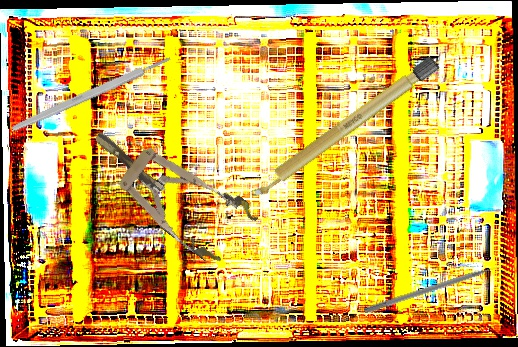Pusher: (363, 260, 510, 316)
Scalpel Handle: (245, 54, 442, 203), (10, 54, 173, 134)
Speculum: (75, 105, 263, 272)
